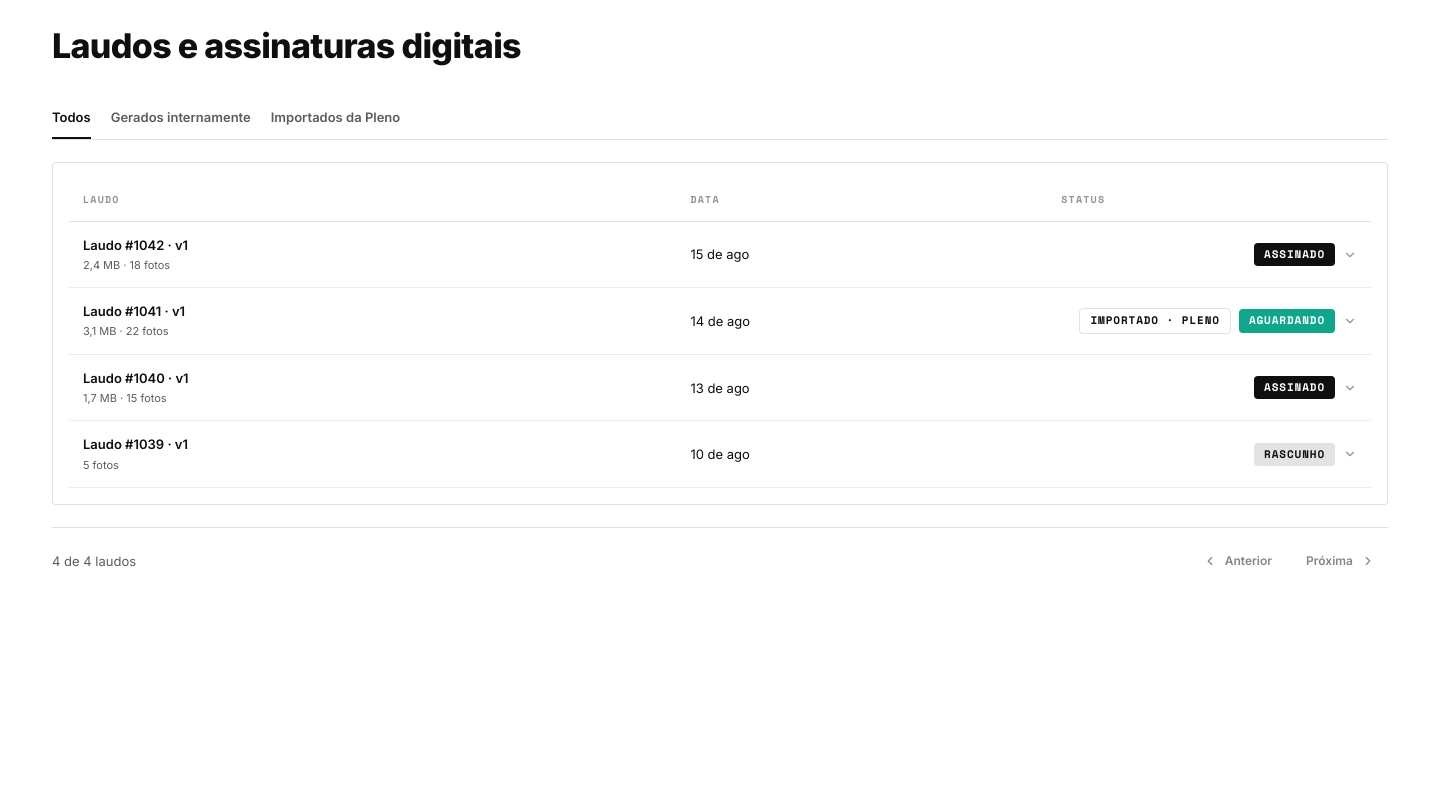
it: Laudos Component › should render download buttons
Click the button "Laudo #1042 · v1": (720,255) [69, 222, 1371, 288]
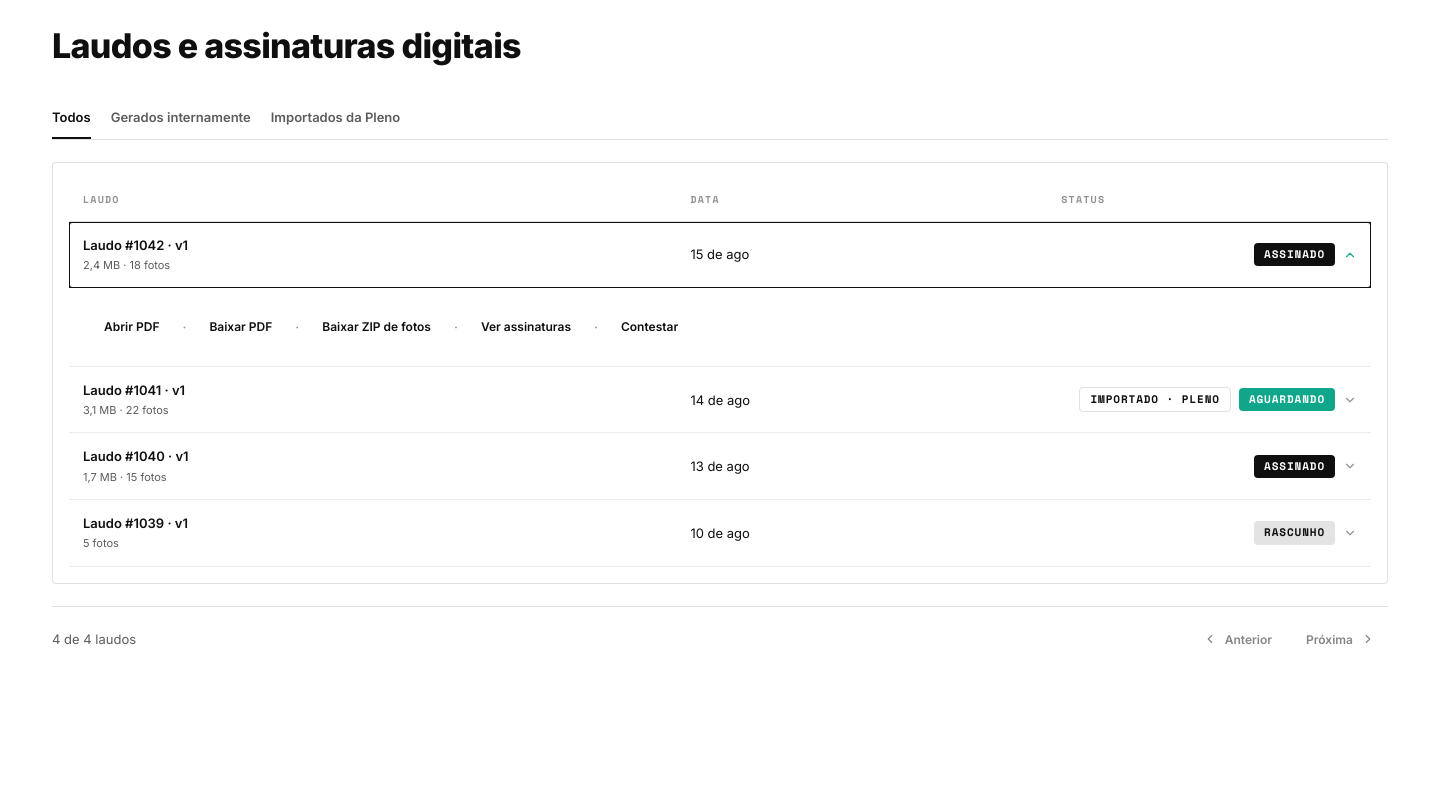
Now the button "Abrir PDF" is shown, box [91, 310, 172, 344]
Now the button "Baixar PDF" is shown, box [196, 310, 285, 344]
